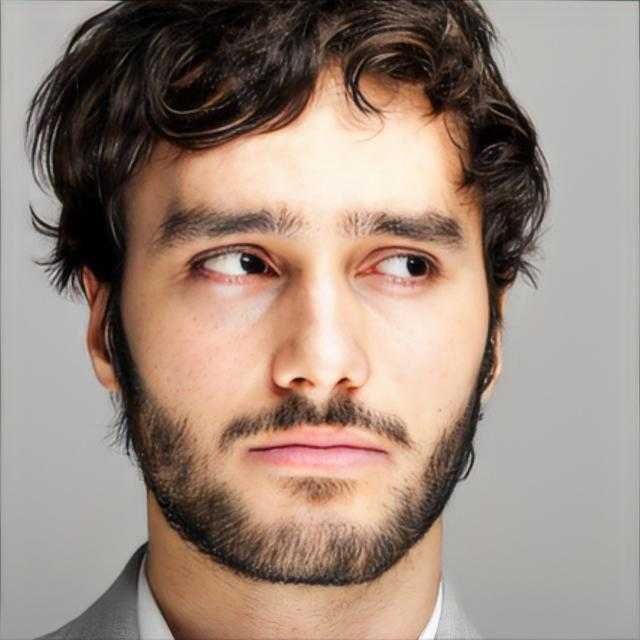neutral: (116, 57, 492, 590)
